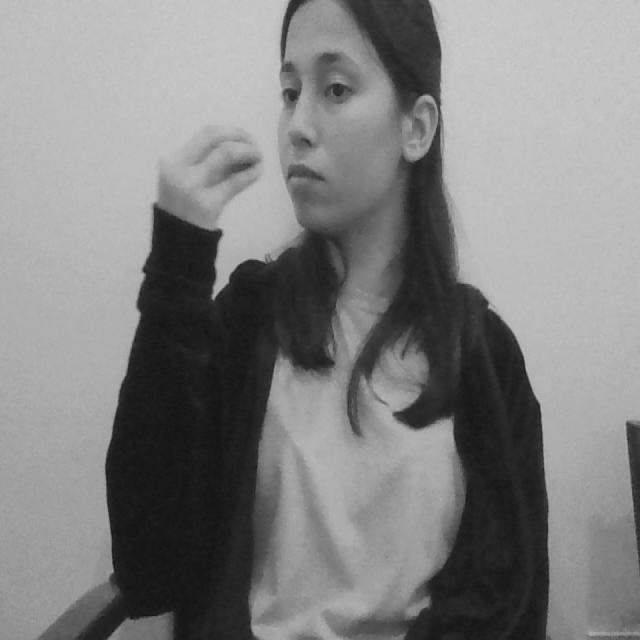Yemek: (162, 118, 338, 206)
